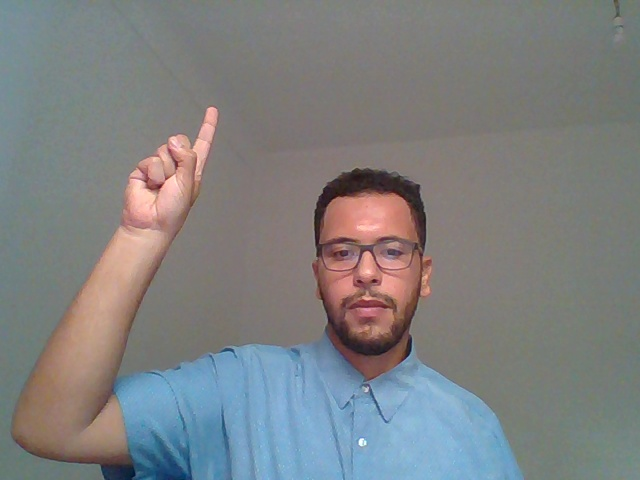handup: (72, 77, 231, 361)
